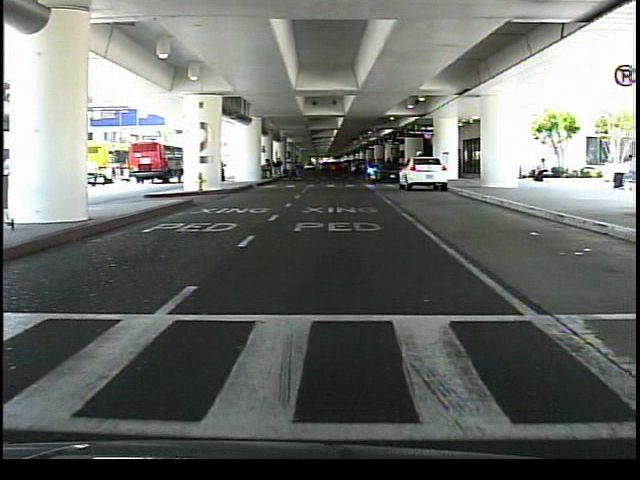person: (527, 153, 554, 190)
